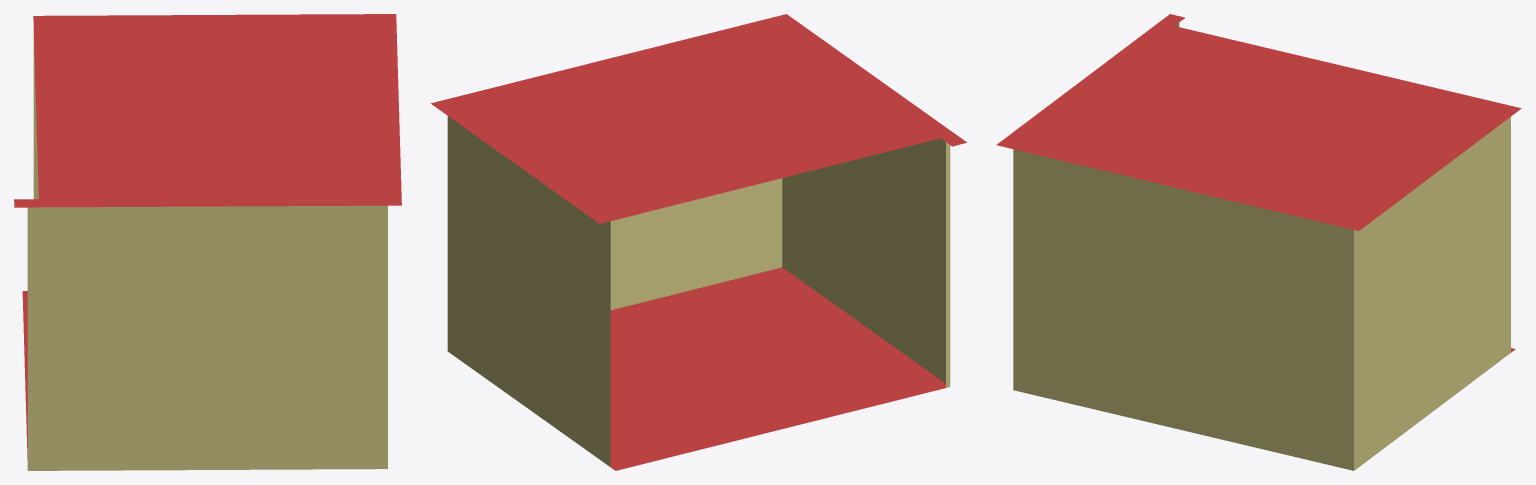
3 views of the same model, side by side, from view 1: azimuth 30°, elevation 25°; view 2: azimuth 150°, elevation 25°; view 3: azimuth 270°, elevation 25° (orthographic). The views are drawn at different scales.
Bounding box in the file's own units: 10.22 × 10.46 × 5.42.
